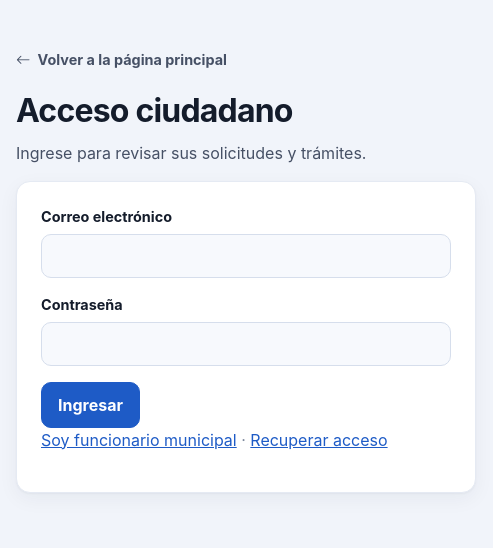
Scenario: LoginPage - citizen › muestra error cuando credenciales son invalidas
In the field labelled "Correo electrónico": (246, 256) [41,234,451,278], type "bad@test.cl"
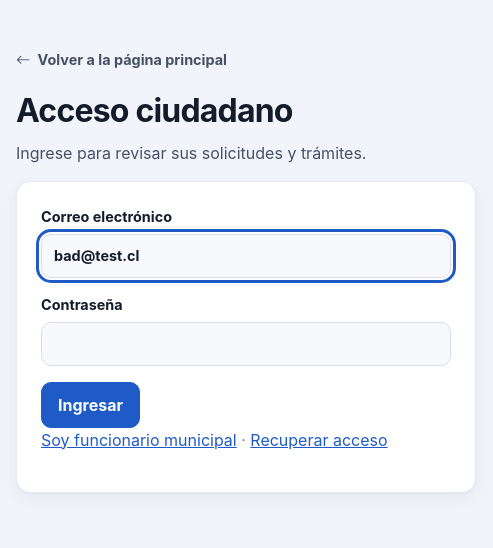
In the password field labelled "Contraseña": (246, 344) [41,322,451,366], type "password123"
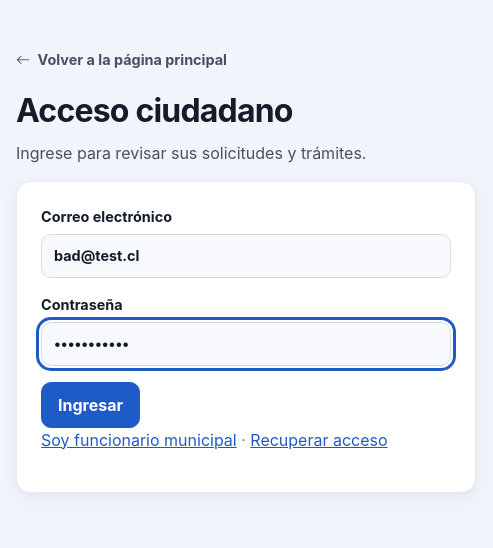
Click the button "Ingresar": (90, 405) [41,382,140,428]
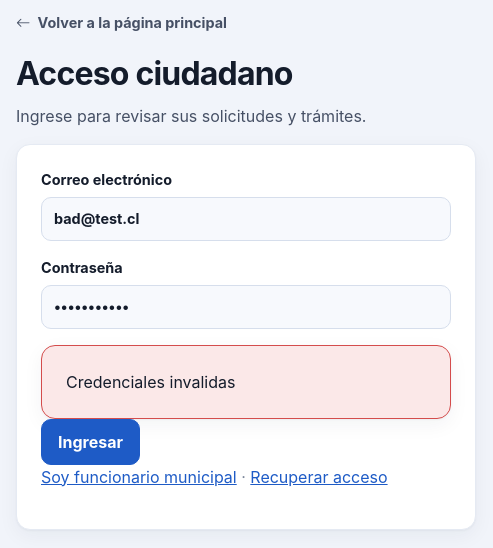
Expected: the text "Credenciales invalidas" is shown, [41,345,451,419]
